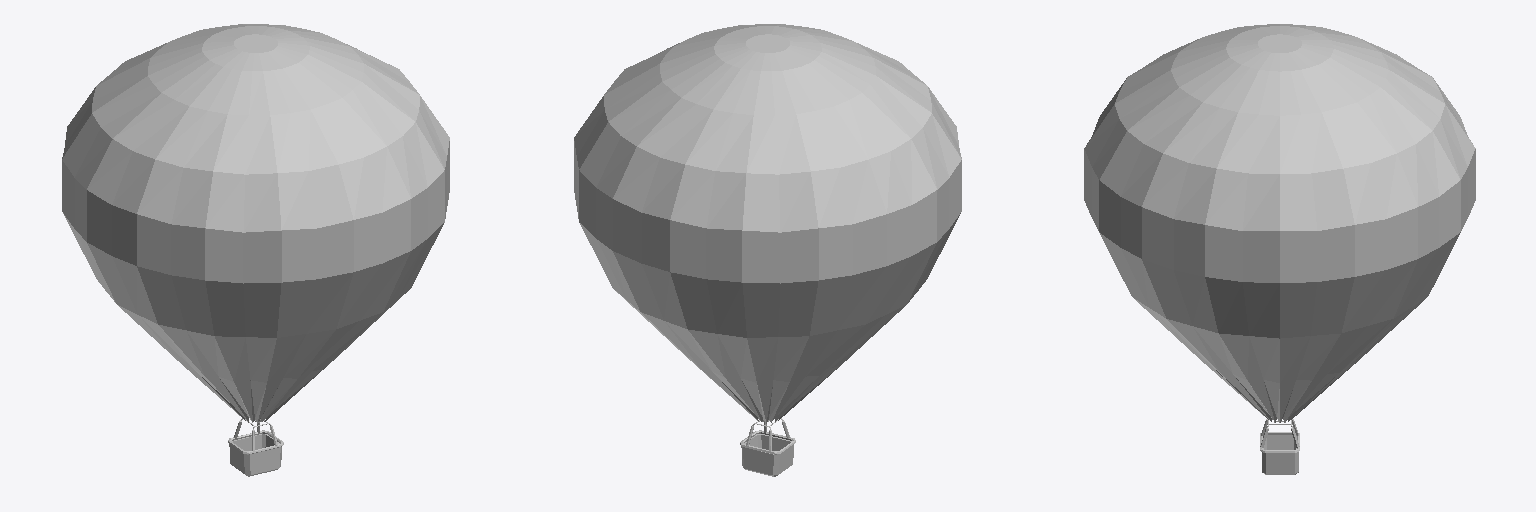
File: ship2.obj
3 views of the same model, side by side, from view 1: azimuth 30°, elevation 25°; view 2: azimuth 150°, elevation 25°; view 3: azimuth 270°, elevation 25° (orthographic).
Visible parts, largest first — view 1: balloon; view 2: balloon; view 3: balloon.
Boxes of the visible parts, <box> form: balloon: <box>62,24,449,476</box>; balloon: <box>574,24,961,476</box>; balloon: <box>1084,24,1475,474</box>.
Bounding box in the file's own units: 11.85 × 14.18 × 11.85.